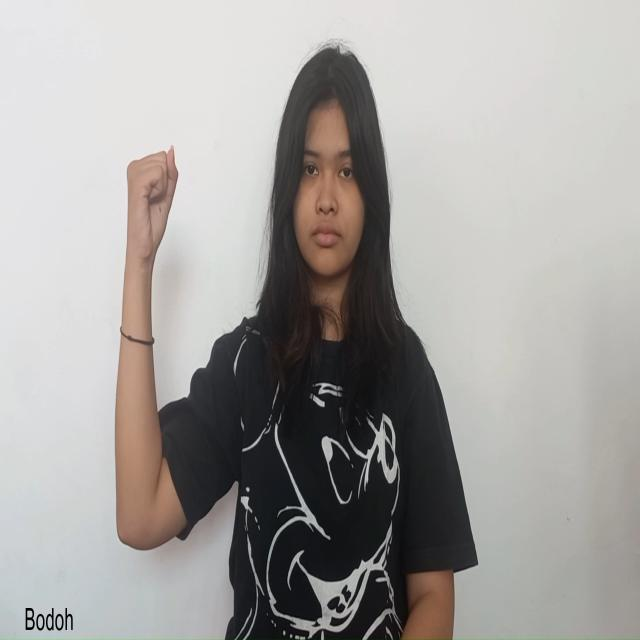Bodoh -BISINDO-: (122, 141, 180, 271)
